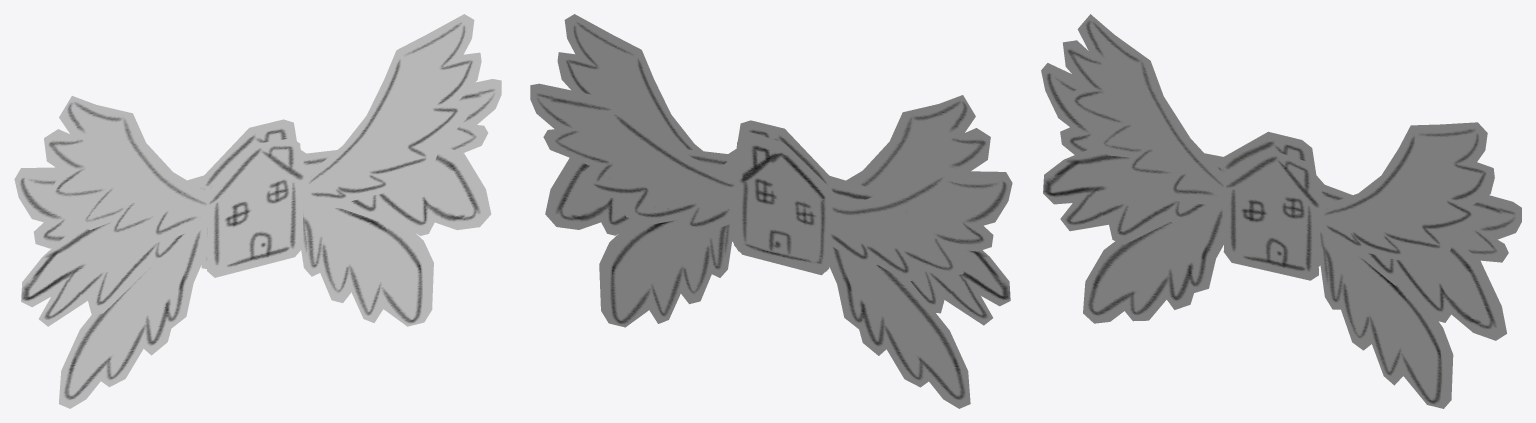
The model's file is RedFlyingHouse.fbx.
3 views of the same model, side by side, from view 1: azimuth 30°, elevation 25°; view 2: azimuth 150°, elevation 25°; view 3: azimuth 330°, elevation 25° (orthographic).
Parts seen in each view (by area): view 1: RedFlyingHouse4, RedFlyingHouse2, RedFlyingHouse3, RedFlyingHouse1; view 2: RedFlyingHouse1, RedFlyingHouse2, RedFlyingHouse4, RedFlyingHouse3; view 3: RedFlyingHouse4, RedFlyingHouse2, RedFlyingHouse3, RedFlyingHouse1.
Boxes of the visible parts, <box> form: RedFlyingHouse4: <box>44,14,481,277</box>; RedFlyingHouse2: <box>59,202,433,408</box>; RedFlyingHouse3: <box>21,119,491,326</box>; RedFlyingHouse1: <box>14,79,501,268</box>; RedFlyingHouse1: <box>530,83,1012,281</box>; RedFlyingHouse2: <box>599,133,970,408</box>; RedFlyingHouse4: <box>557,14,990,275</box>; RedFlyingHouse3: <box>545,120,1010,325</box>; RedFlyingHouse4: <box>1062,14,1494,280</box>; RedFlyingHouse2: <box>1083,208,1453,408</box>; RedFlyingHouse3: <box>1043,131,1506,340</box>; RedFlyingHouse1: <box>1041,63,1521,266</box>.
Bounding box in the file's own units: 59.92 × 37.09 × 0.795.
1 material, 1 textured.
